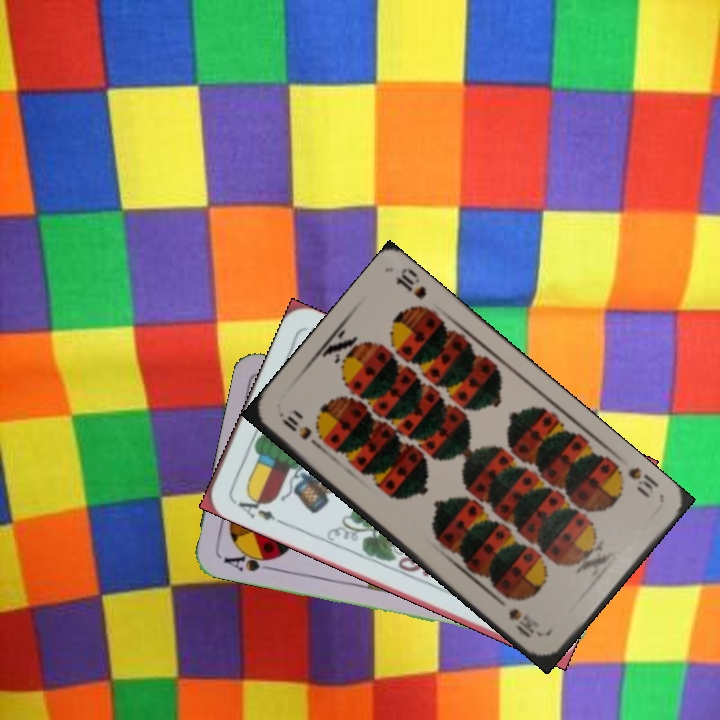EA: (228, 490, 285, 526)
S10: (275, 408, 324, 452), (623, 462, 662, 501)
SA: (219, 546, 279, 574)
